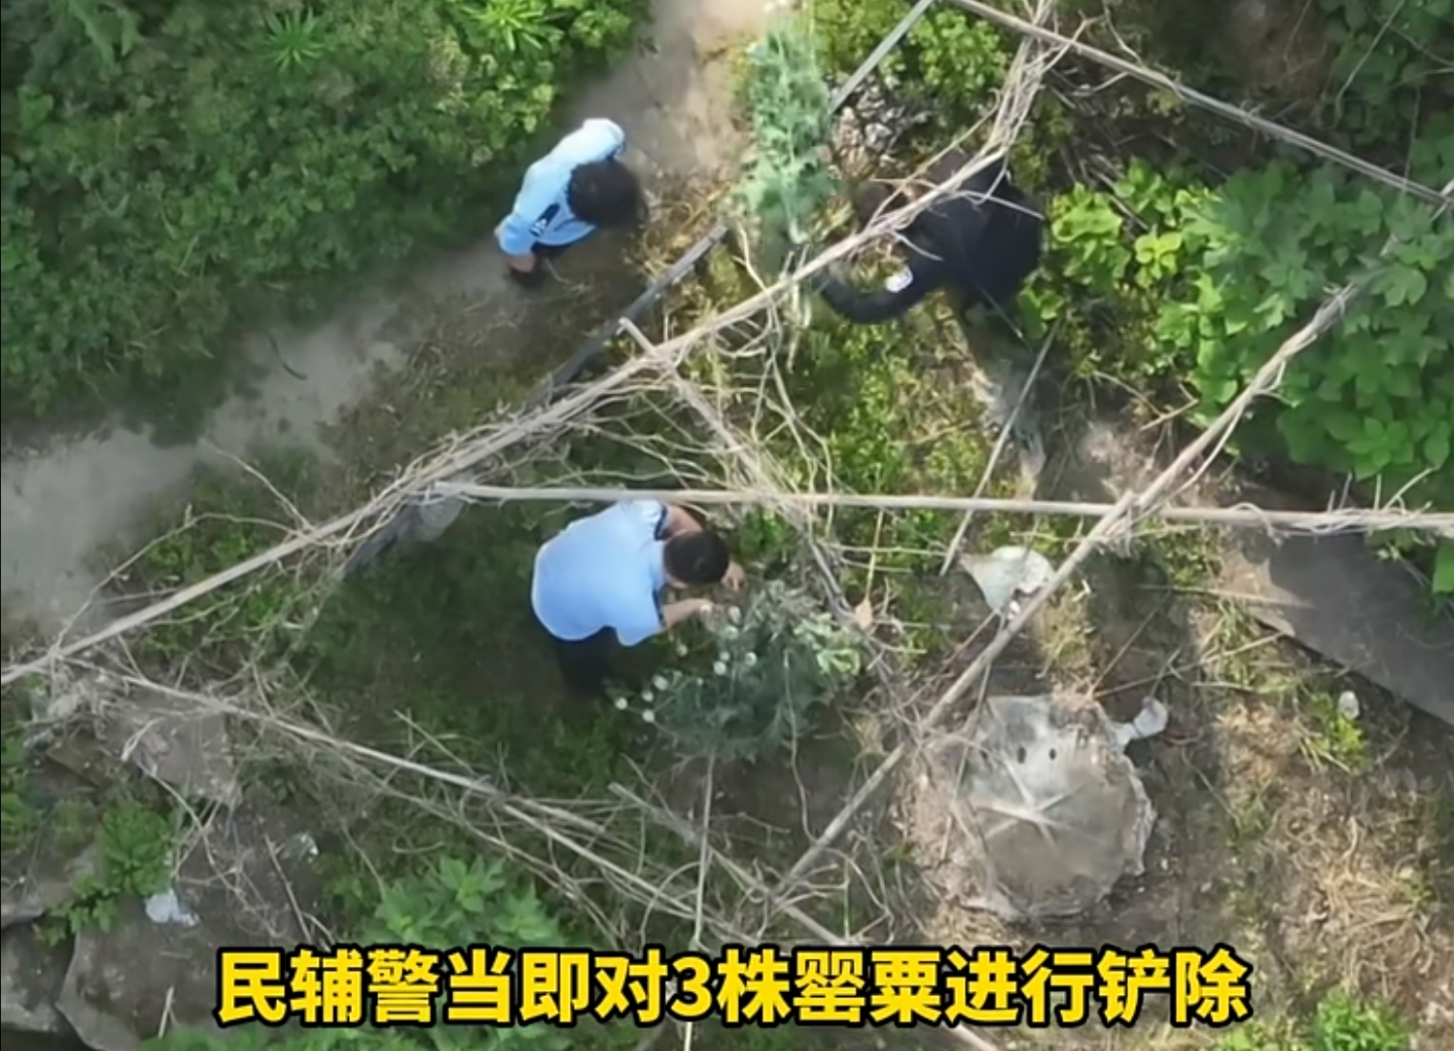Poppy: (605, 599, 786, 745)
